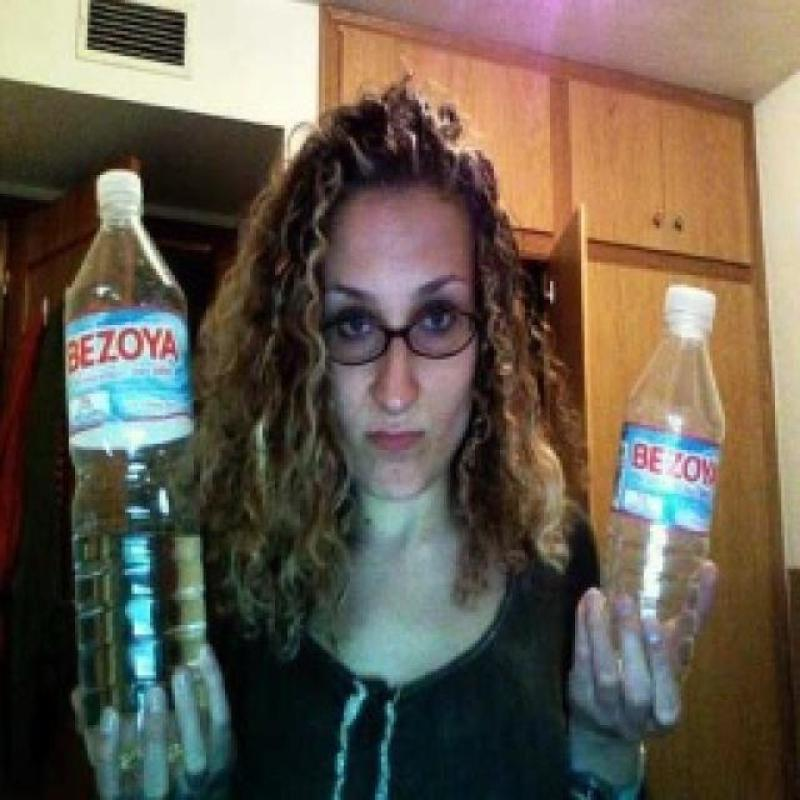botella: (59, 168, 222, 794), (605, 284, 730, 700)
